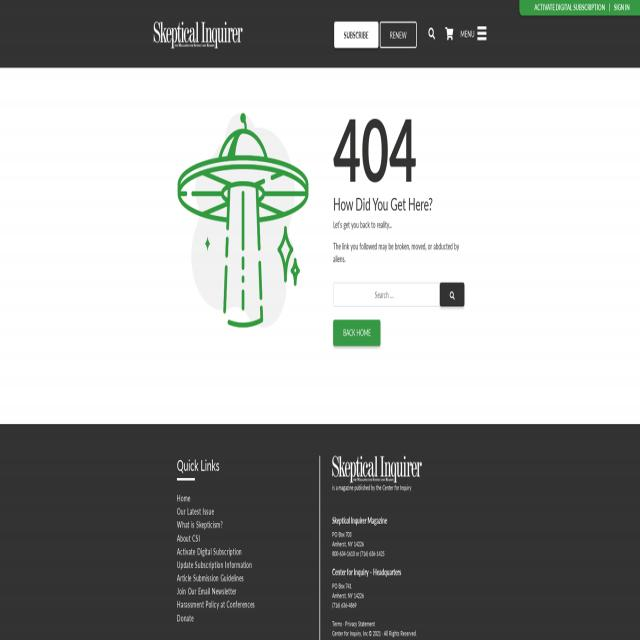button: (176, 110, 310, 331), (153, 8, 243, 48), (329, 451, 424, 483), (520, 0, 640, 16), (333, 320, 381, 346), (334, 22, 378, 48), (380, 22, 416, 48), (459, 20, 489, 48), (440, 283, 464, 306), (422, 21, 440, 48), (441, 20, 458, 48)
field: (333, 282, 440, 308)
